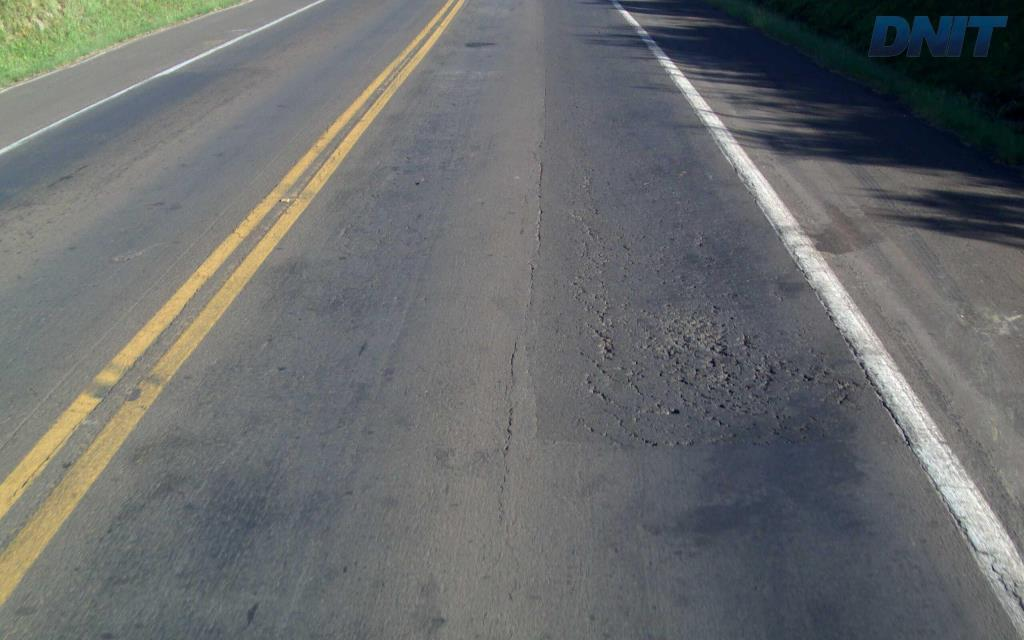crack: (764, 397, 827, 437), (661, 318, 692, 364), (720, 420, 766, 449)
